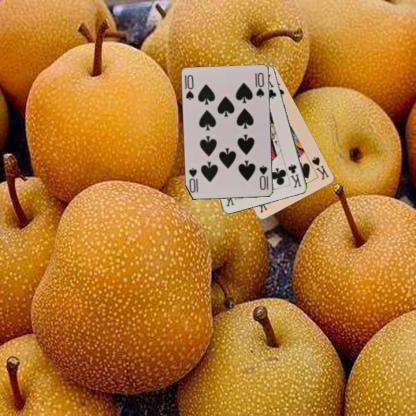10s: (183, 72, 195, 102), (257, 163, 269, 191)
Kc: (285, 162, 303, 189)
Ks: (309, 154, 331, 182)
